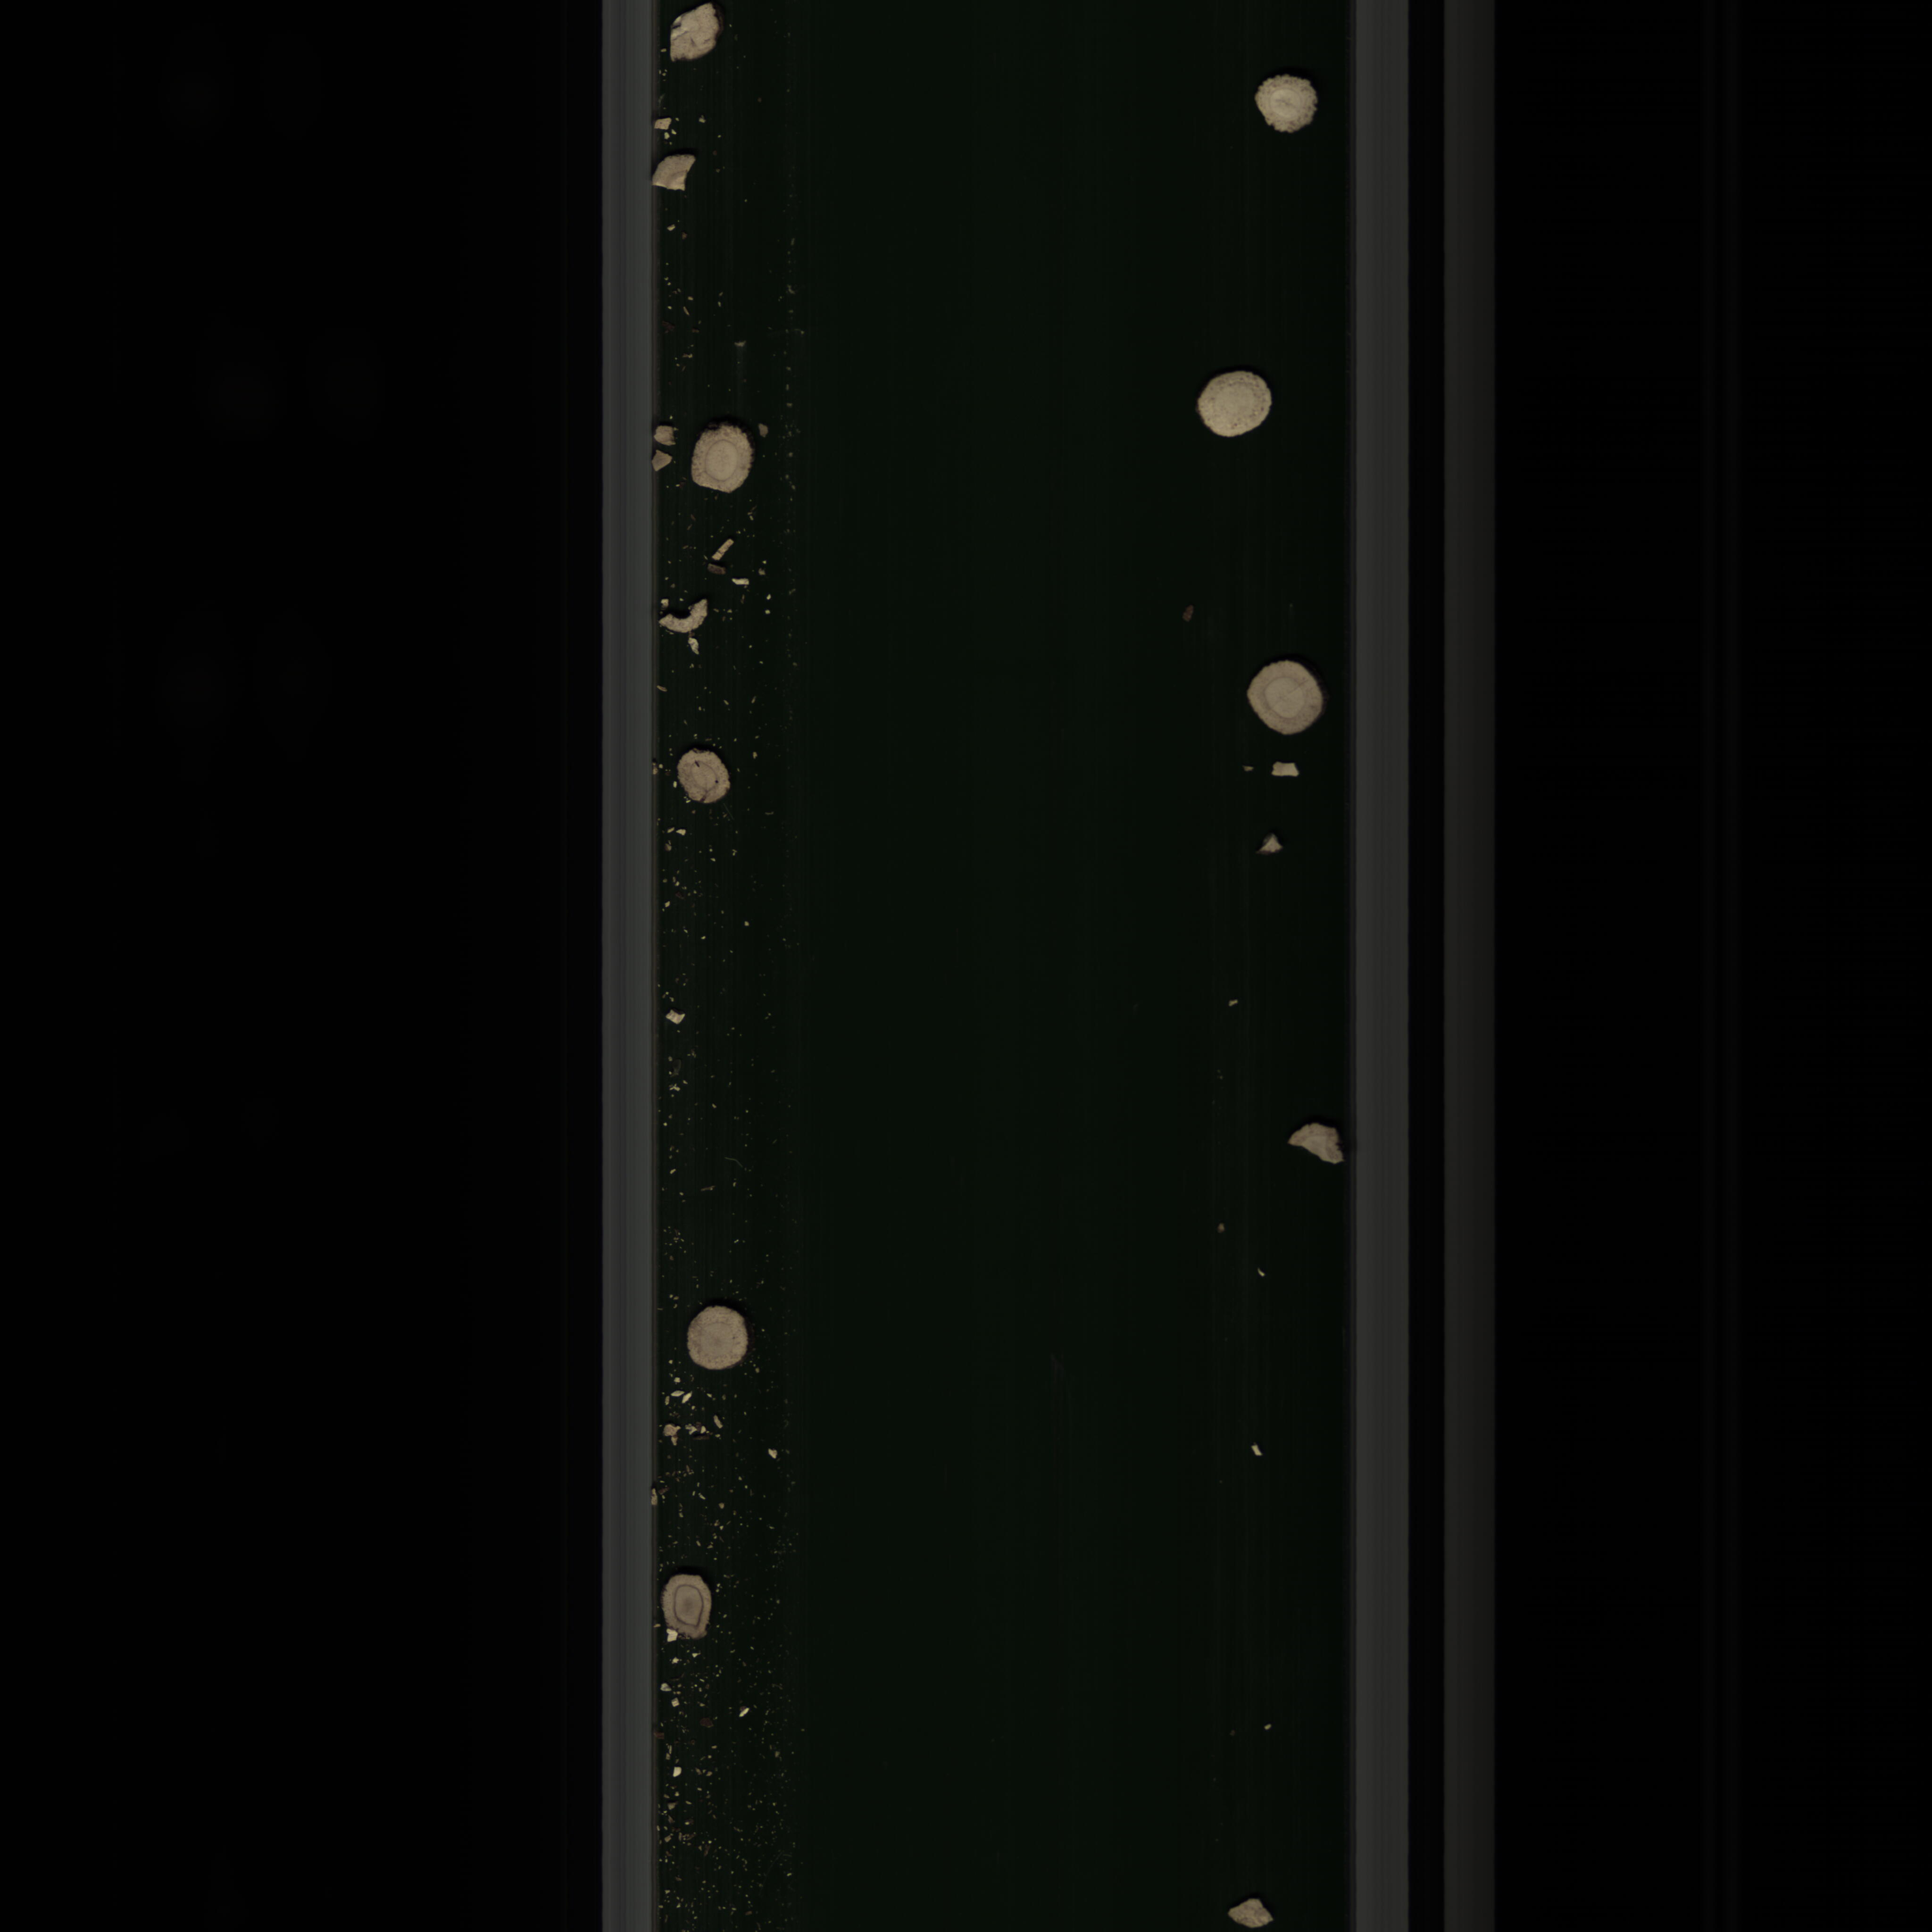debris: (1277, 1116, 1352, 1175), (658, 587, 718, 656), (667, 0, 722, 74), (649, 154, 706, 198), (1212, 1893, 1276, 1928), (651, 414, 678, 479), (1253, 833, 1295, 863), (1267, 759, 1309, 787)
moldy: (660, 1575, 720, 1649)
